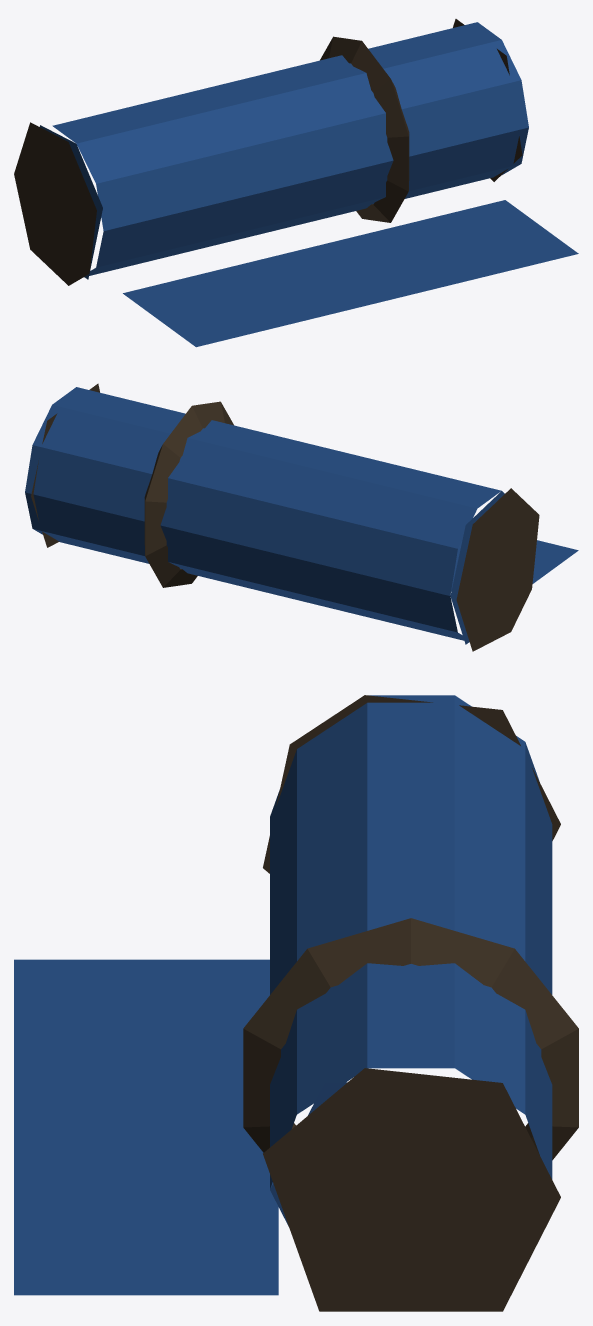
File: blueprint.lod.glb
3 renders of one model, top to bottom at view 1: azimuth 30°, elevation 25°; view 2: azimuth 150°, elevation 25°; view 3: azimuth 270°, elevation 25°, orthographic. The views are drawn at different scales.
Parts seen in each view (by area): view 1: m; view 2: m; view 3: m.
Boxes of the visible parts, x1,y1,x2,y2 form: m: [14, 19, 578, 347]; m: [25, 383, 578, 651]; m: [14, 695, 578, 1311].
Size of the model in its own units: 0.11 by 0.0423 by 0.0677.
